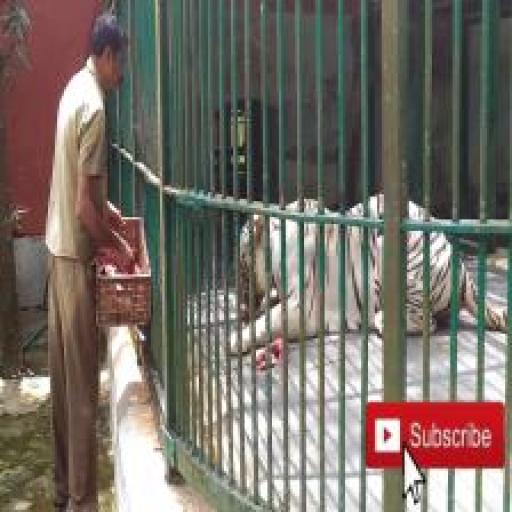Tiger: (231, 192, 512, 359)
